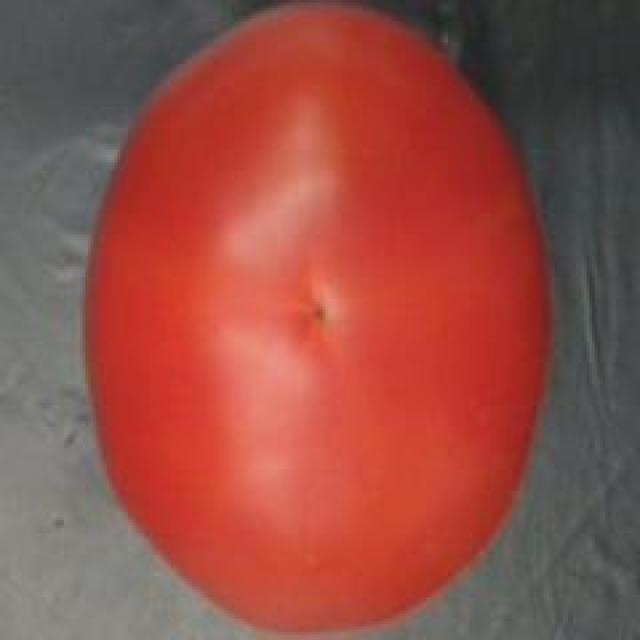ripe tomato: (72, 2, 560, 640)
